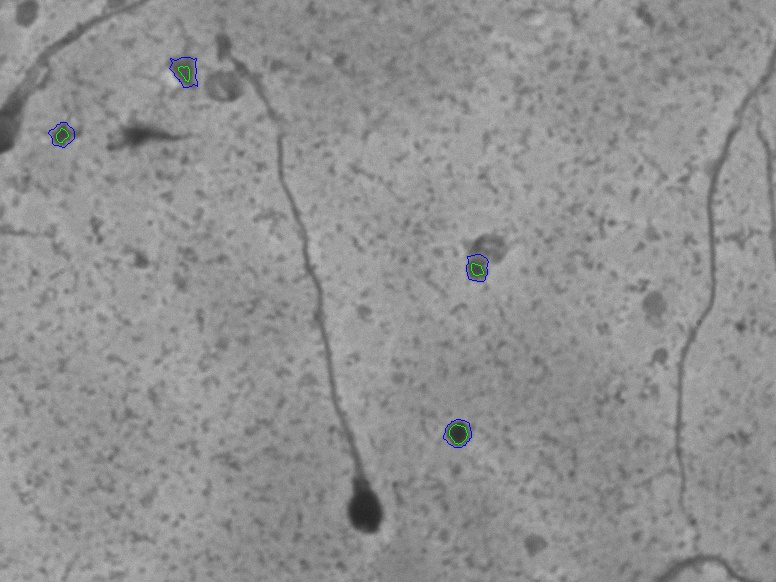Abnormal: (220, 76, 427, 553)
